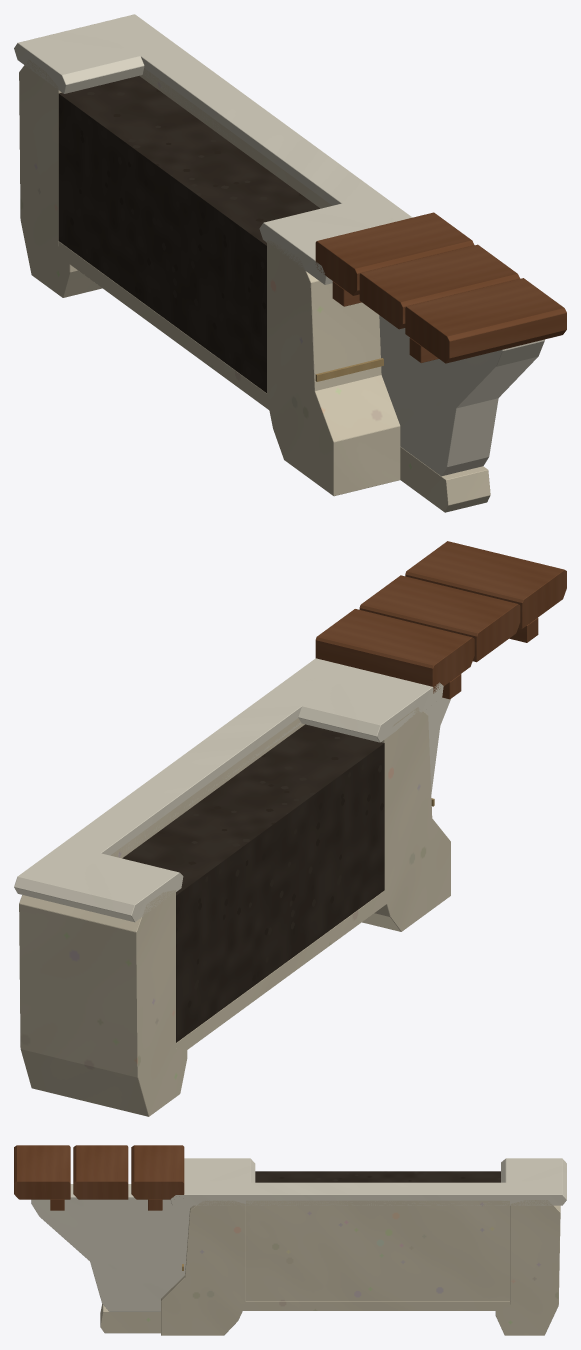
The model's file is AST-BOT-006.glb.
3 views of the same model, one above another, from view 1: azimuth 30°, elevation 25°; view 2: azimuth 150°, elevation 25°; view 3: azimuth 270°, elevation 25° (orthographic). The views are drawn at different scales.
Visible parts, largest first — view 1: ASTRAEA_planted_seat_botanical_soil, ASTRAEA_planted_seat_warm_stone, ASTRAEA_planted_seat_ivory_enamel, ASTRAEA_planted_seat_warm_walnut; view 2: ASTRAEA_planted_seat_warm_stone, ASTRAEA_planted_seat_botanical_soil, ASTRAEA_planted_seat_ivory_enamel, ASTRAEA_planted_seat_warm_walnut; view 3: ASTRAEA_planted_seat_warm_stone, ASTRAEA_planted_seat_ivory_enamel, ASTRAEA_planted_seat_warm_walnut, ASTRAEA_planted_seat_botanical_soil.
Boxes of the visible parts, x1,y1,x2,y2 form: ASTRAEA_planted_seat_botanical_soil: (58,76,319,392); ASTRAEA_planted_seat_warm_stone: (19,59,490,512); ASTRAEA_planted_seat_ivory_enamel: (14,14,544,476); ASTRAEA_planted_seat_warm_walnut: (315,212,566,363); ASTRAEA_planted_seat_warm_stone: (19,707,450,1116); ASTRAEA_planted_seat_botanical_soil: (122,724,384,1042); ASTRAEA_planted_seat_ivory_enamel: (14,658,450,922); ASTRAEA_planted_seat_warm_walnut: (315,541,566,699); ASTRAEA_planted_seat_warm_stone: (100,1200,560,1335); ASTRAEA_planted_seat_ivory_enamel: (31,1158,566,1311); ASTRAEA_planted_seat_warm_walnut: (14,1145,184,1210); ASTRAEA_planted_seat_botanical_soil: (255,1171,500,1182).
Bounding box in the file's own units: 0.238 × 0.47 × 1.53.
5 materials, 5 textured.
